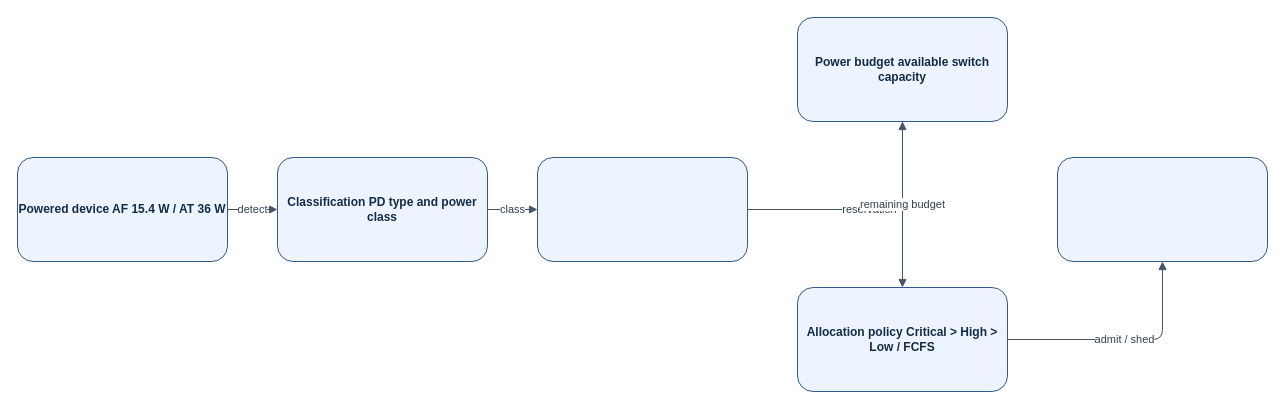
The diagram is 1285 pixels wide and 409 high, and some of its shapes have lost their labels. The centre of each missing label's shape, as x and y in pixels:
"Dynamic guard band reserve expected maximum" goes at (x=642, y=209).
"Port state power on or denied/shed" goes at (x=1162, y=209).
